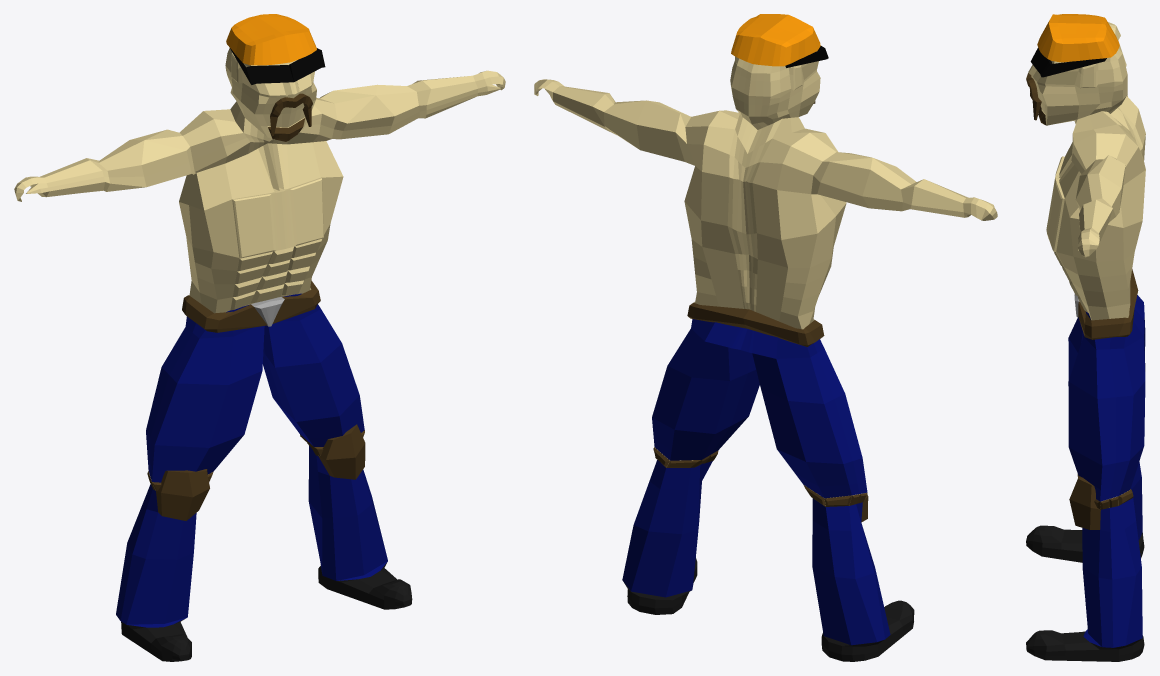
File: Character.fbx
The picture shows the model from 3 angles, left to right: view 1: azimuth 30°, elevation 25°; view 2: azimuth 150°, elevation 25°; view 3: azimuth 270°, elevation 25°; orthographic projection. The views are drawn at different scales.
Visible parts, largest first — view 1: Cube; view 2: Cube; view 3: Cube.
Boxes of the visible parts, bbox=[...] form: Cube: bbox=[14, 14, 505, 661]; Cube: bbox=[534, 14, 997, 661]; Cube: bbox=[1026, 14, 1145, 661].
Bounding box in the file's own units: 1189 × 1416 × 265.
